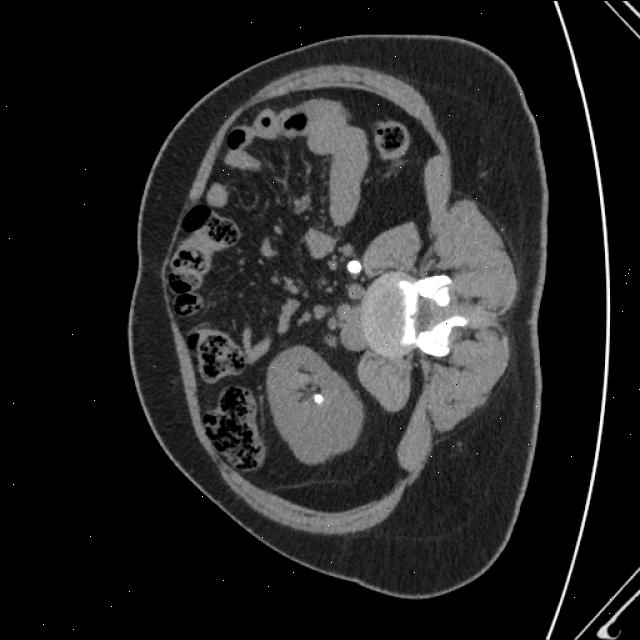kidneystone: (346, 259, 362, 272), (314, 392, 323, 402)
